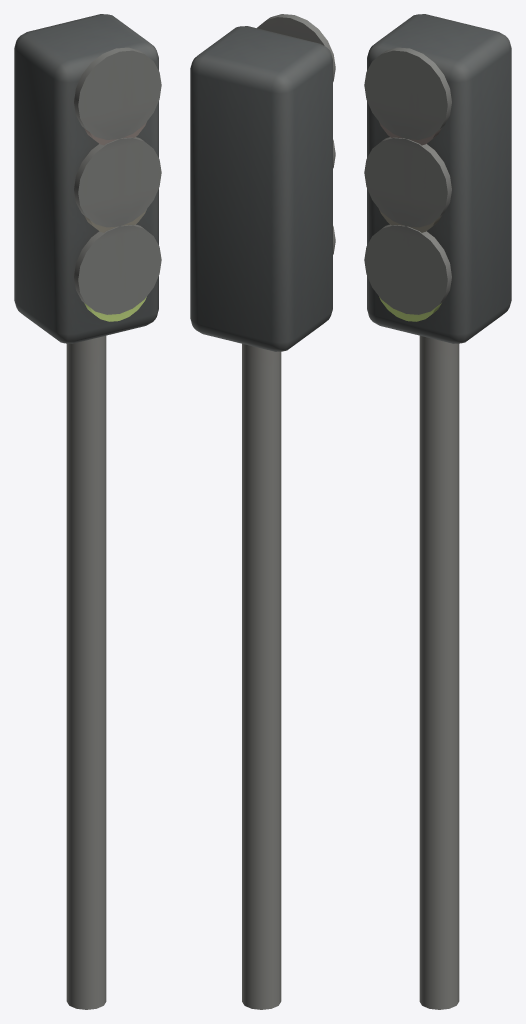
The model's file is GreenLight.fbx.
3 renders of one model, left to right at view 1: azimuth 30°, elevation 25°; view 2: azimuth 150°, elevation 25°; view 3: azimuth 330°, elevation 25°, orthographic.
Visible parts, largest first — view 1: GreenLight; view 2: GreenLight; view 3: GreenLight.
Part boxes in pixels (x1,y1,x2,y2): GreenLight: (14, 14, 161, 1009); GreenLight: (190, 14, 335, 1009); GreenLight: (364, 14, 511, 1009).
Size of the model in its own units: 42 by 379 by 42.5.
